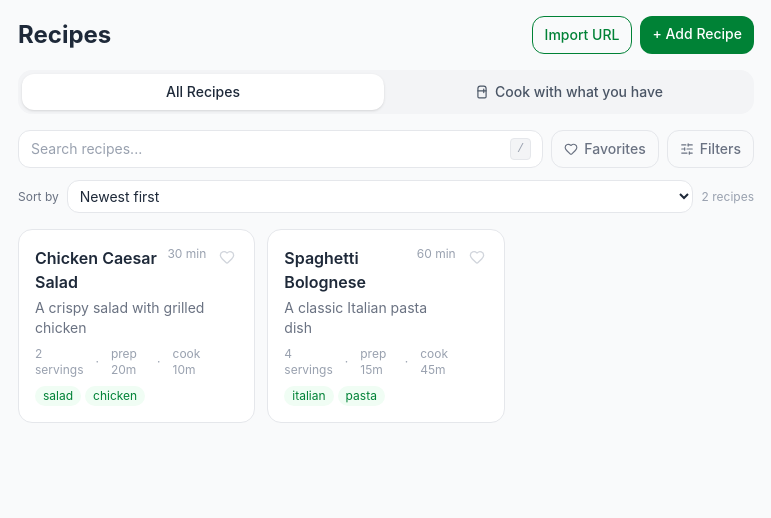
RecipesPage › search filtering › "Clear search" button resets the query and shows all recipes
Check: the heading "Spaghetti Bolognese" is shown, box [284,248,366,292]
Type "xyznonexistent" into the search field with placeholder "Search recipes..." at (281,149), box [18,130,543,168]
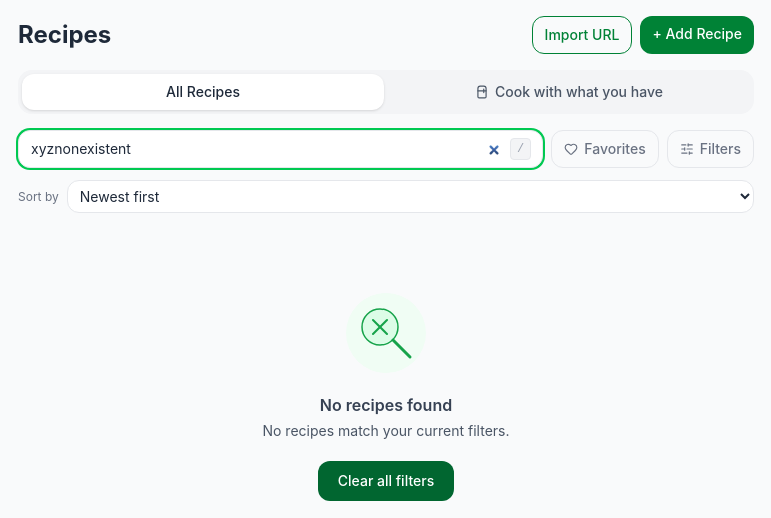
Check: the text "No recipes found" is shown, box [320,393,452,417]
Click the button "Clear all filters" at (386,481), box [318,461,454,501]
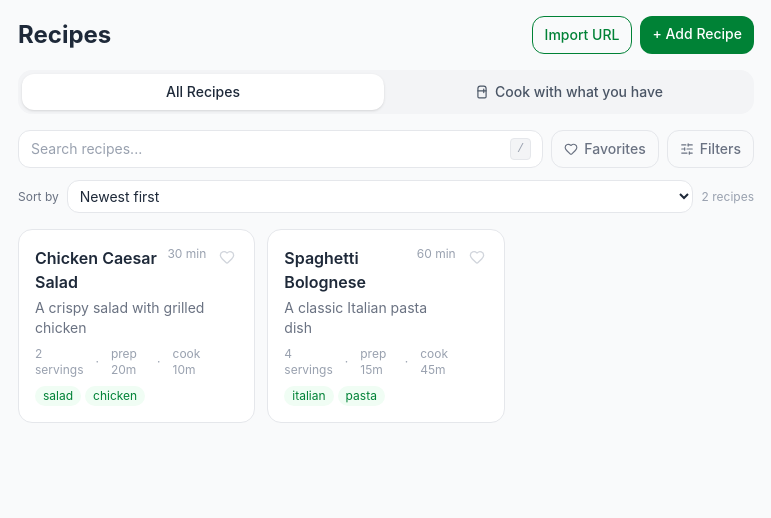
Check: the heading "Spaghetti Bolognese" is shown, box [284,248,366,292]
Check: the heading "Chicken Caesar Salad" is shown, box [35,246,160,294]
